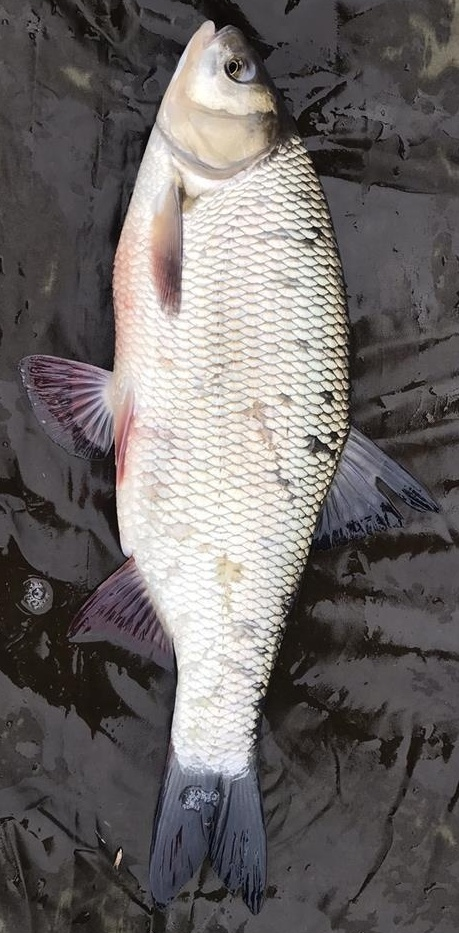Leuciscus idus: (20, 20, 439, 913)
